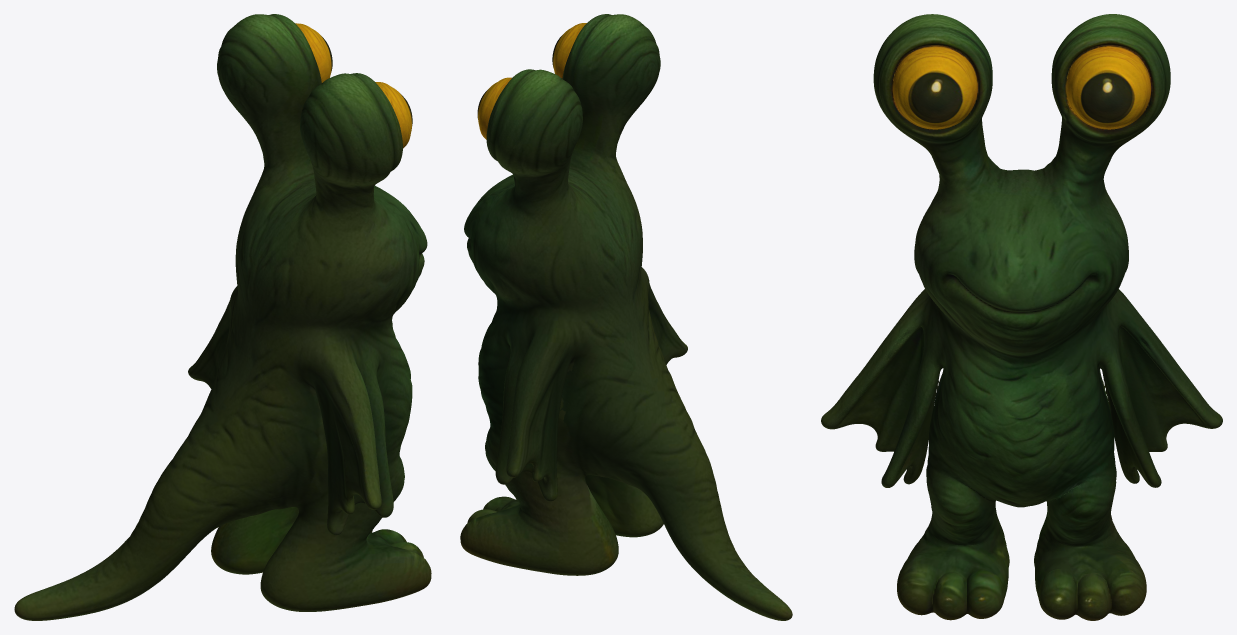
The model's file is bicho verde corredor.glb.
3 views of the same model, side by side, from view 1: azimuth 30°, elevation 25°; view 2: azimuth 150°, elevation 25°; view 3: azimuth 270°, elevation 25° (orthographic). The views are drawn at different scales.
Parts seen in each view (by area): view 1: tripo_node_b15e6a66-f311-44e1-83a9-ec8fda793103; view 2: tripo_node_b15e6a66-f311-44e1-83a9-ec8fda793103; view 3: tripo_node_b15e6a66-f311-44e1-83a9-ec8fda793103.
Part boxes in pixels (x1,y1,x2,y2): tripo_node_b15e6a66-f311-44e1-83a9-ec8fda793103: [14, 14, 431, 620]; tripo_node_b15e6a66-f311-44e1-83a9-ec8fda793103: [460, 14, 792, 620]; tripo_node_b15e6a66-f311-44e1-83a9-ec8fda793103: [821, 14, 1222, 620].
Bounding box in the file's own units: 0.7339 × 1 × 0.6338.
Materials: 1 (1 with a texture image).
